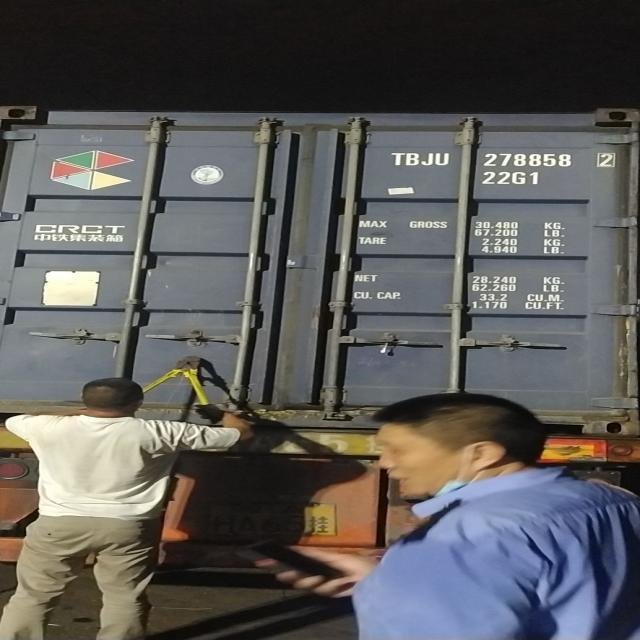ISO: (483, 170, 542, 190)
container_number: (384, 144, 620, 170)
